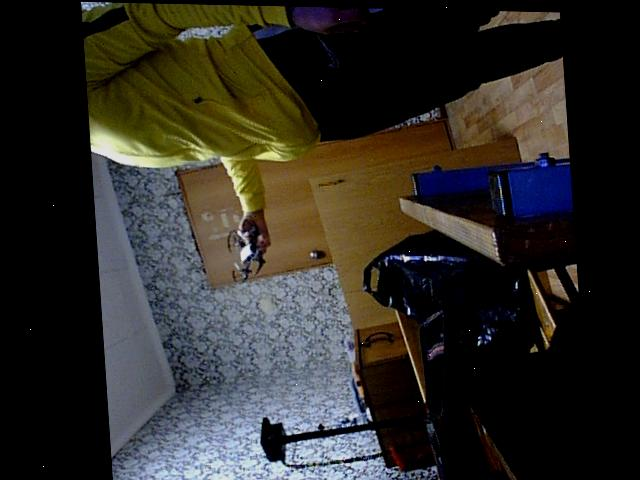drone: (212, 211, 273, 288)
